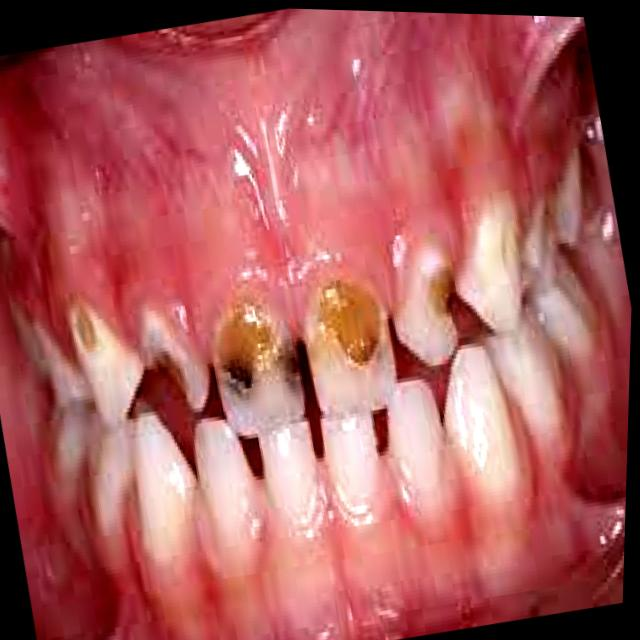cariess: (306, 280, 397, 408), (216, 305, 305, 435), (424, 266, 454, 325), (76, 306, 96, 348)
